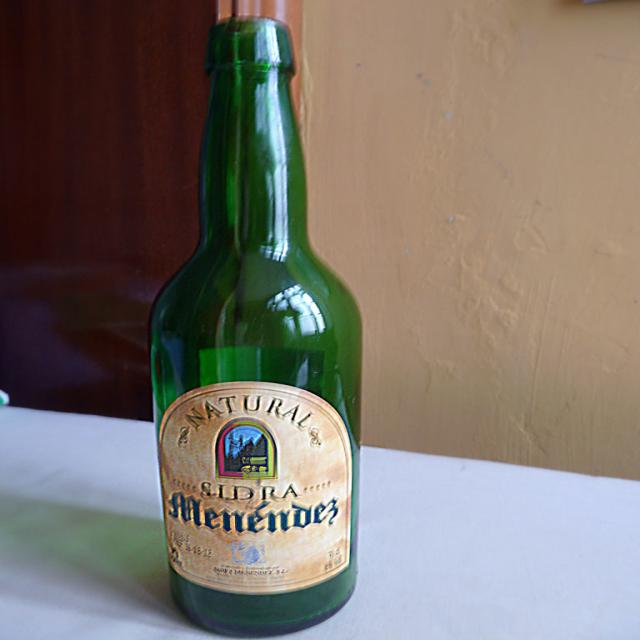Bottle: (152, 16, 358, 634)
